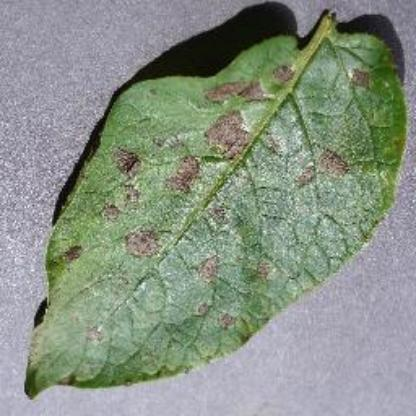Early-Blight: (23, 7, 415, 413)
